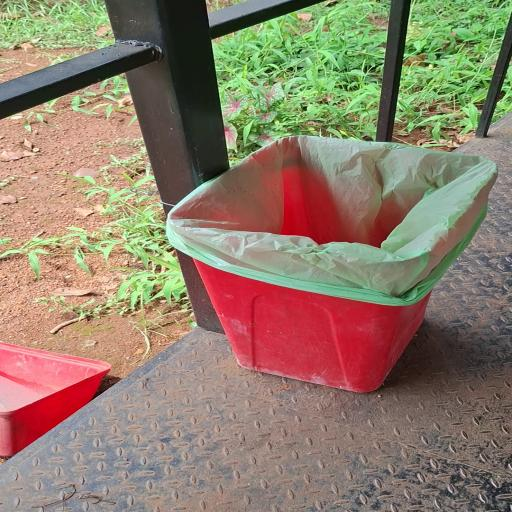Nilkamal-dustbin-detection: (168, 136, 496, 392)
